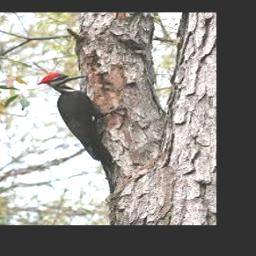Woodpecker: (37, 72, 127, 193)
